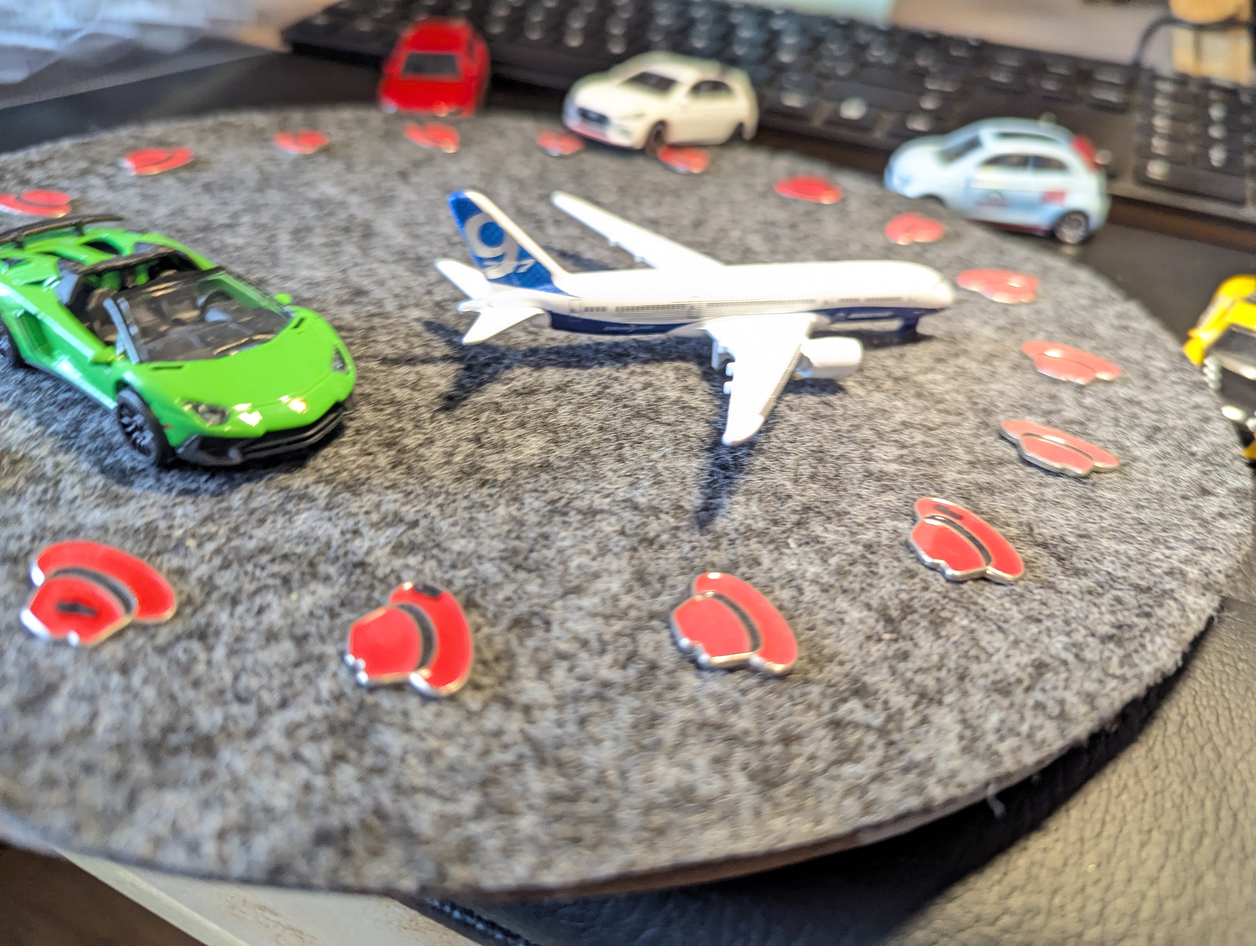Airplane: (409, 171, 981, 462)
Car: (0, 202, 378, 472), (873, 93, 1127, 254), (557, 26, 769, 164), (362, 7, 493, 135)
Red-Hat: (8, 526, 198, 674), (335, 549, 498, 719), (658, 556, 809, 704), (896, 472, 1028, 613), (985, 406, 1132, 491), (999, 316, 1125, 399), (942, 252, 1062, 319), (257, 116, 365, 170), (105, 135, 211, 186), (769, 159, 856, 221), (0, 181, 78, 238), (396, 115, 473, 159)
Scratch: (41, 589, 123, 635), (924, 493, 969, 530), (405, 576, 449, 608)
